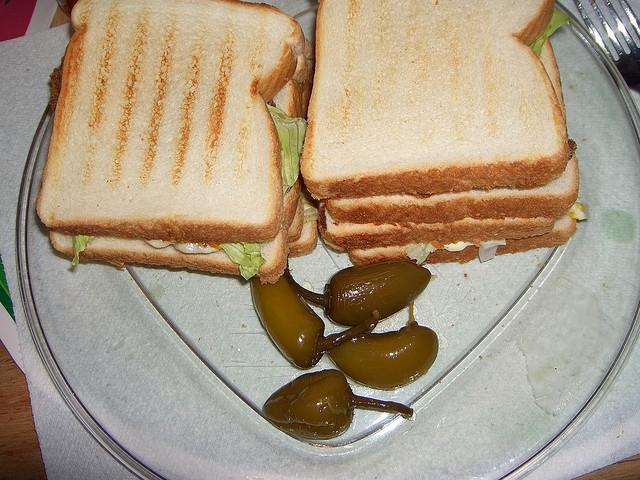lettuce: (266, 104, 308, 196), (529, 7, 573, 58), (219, 242, 267, 281), (70, 235, 97, 267)
